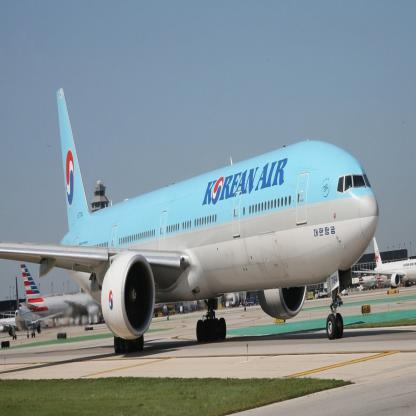CIV_Plane: (4, 86, 380, 354), (372, 232, 415, 293)
